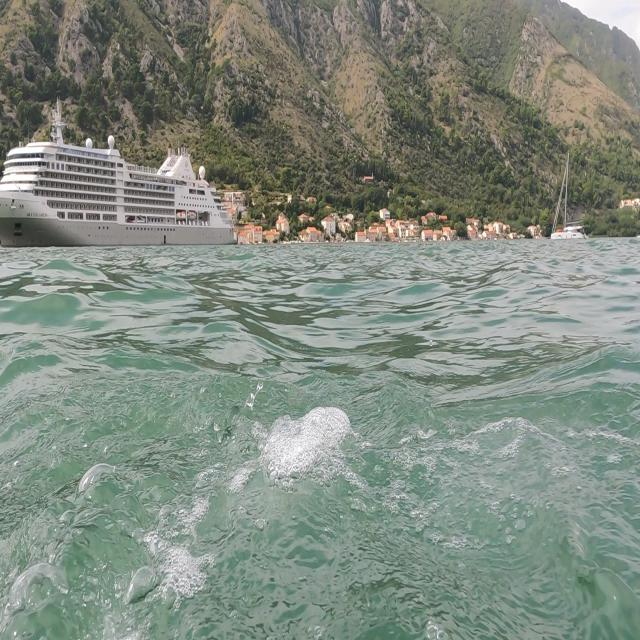boat: (1, 95, 239, 250), (550, 148, 598, 253)
